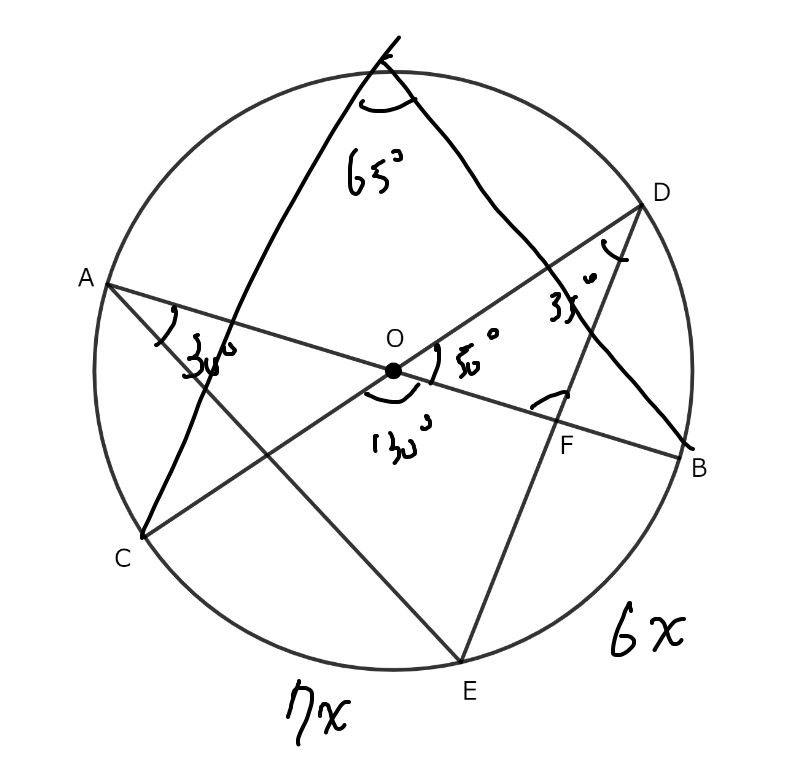Angle_Scurve: (359, 377, 425, 410), (144, 300, 183, 348), (358, 87, 416, 116), (526, 389, 580, 415), (596, 233, 636, 266), (422, 336, 446, 389)
